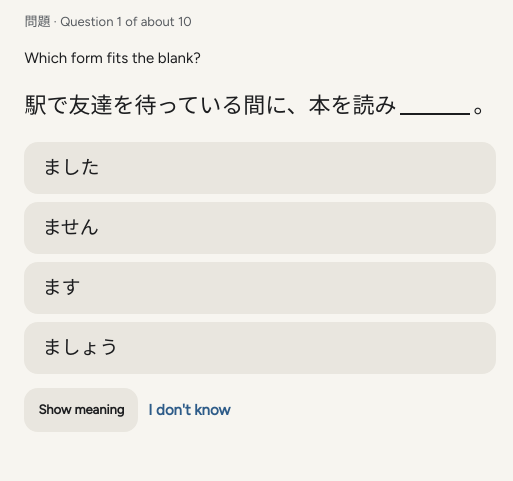
Test: placement (U5, U6) › opens no word, and shows the meaning only on a press
Check: the element showing "Show meaning I don't know" is shown, box x1=24 y1=388 x2=238 y2=432
Check: the text "I read while ___." is not shown
Click the button "Show meaning": (81, 410) x1=24 y1=388 x2=138 y2=432
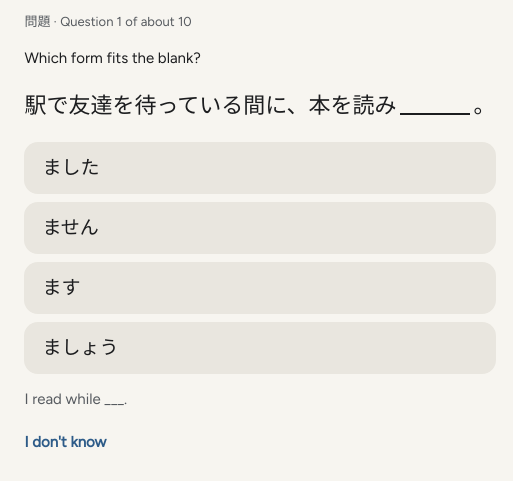
Check: the button "I don't know" is shown, box x1=16 y1=421 x2=114 y2=465
Check: the text "I read while ___." is shown, box x1=24 y1=390 x2=127 y2=408
